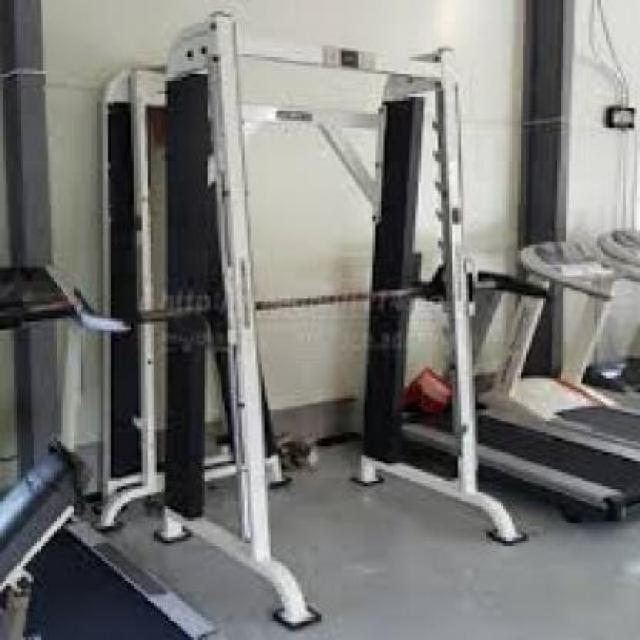smith machine: (99, 11, 526, 634)
